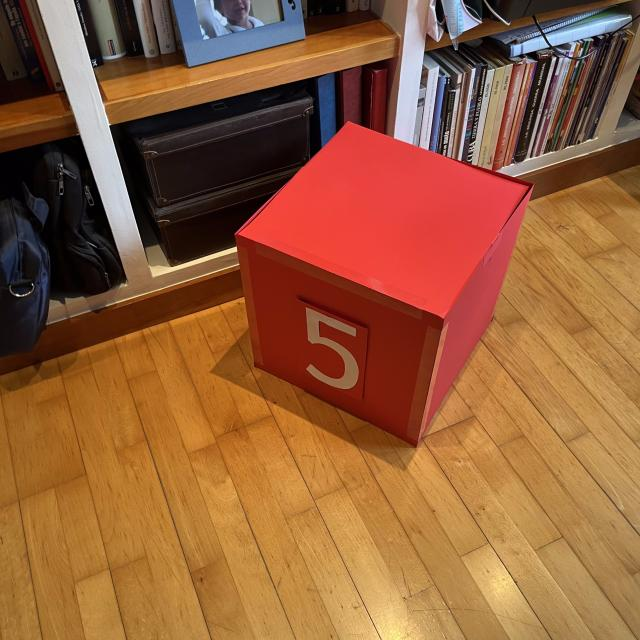box: (231, 118, 536, 448)
